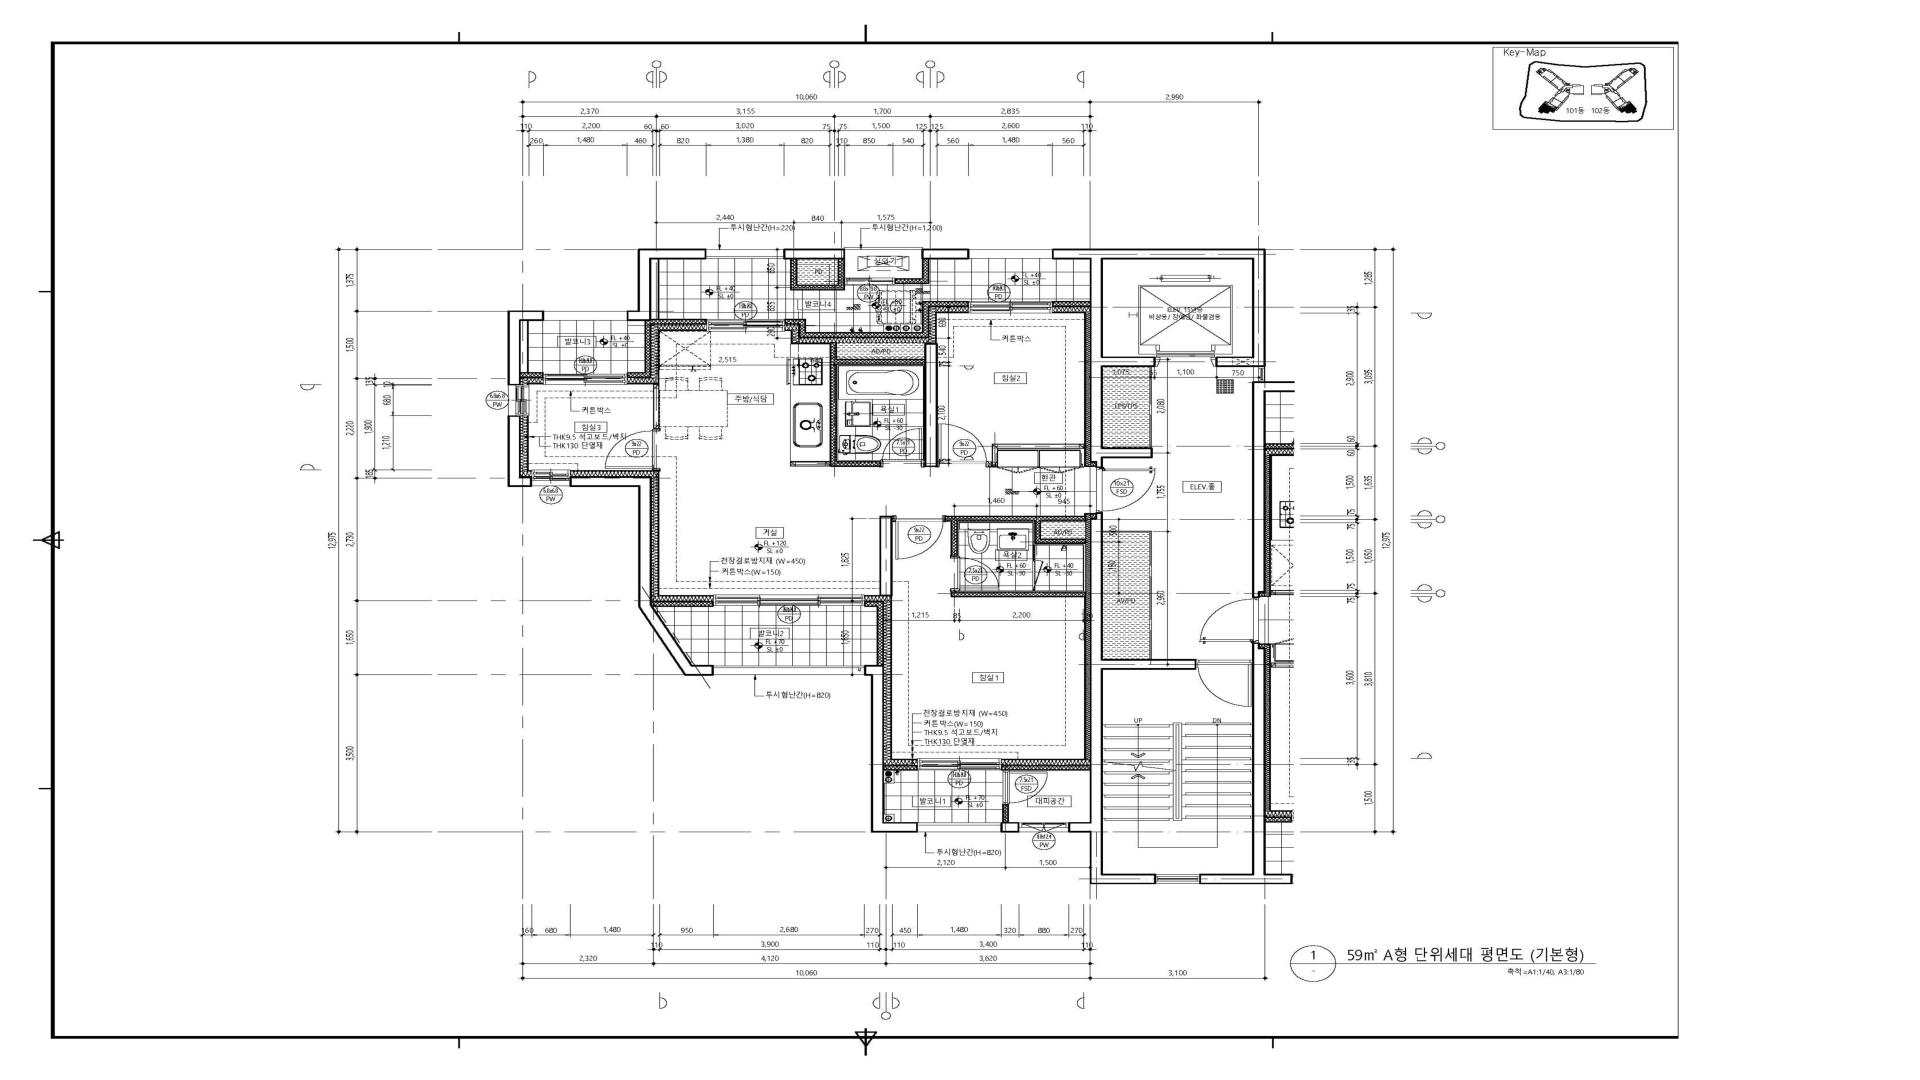door: (1199, 597, 1259, 644), (1196, 659, 1251, 708), (1096, 467, 1155, 512), (895, 518, 943, 560), (939, 423, 988, 463), (604, 430, 653, 468), (955, 556, 1000, 591), (1002, 771, 1047, 803), (882, 429, 922, 462), (845, 278, 894, 285), (1033, 559, 1043, 588)
wall: (1199, 642, 1292, 885), (1052, 248, 1251, 357), (570, 476, 653, 607), (1251, 381, 1295, 597), (864, 665, 918, 833), (1091, 357, 1155, 467), (1216, 248, 1266, 367), (626, 248, 707, 320), (638, 607, 713, 676), (1089, 832, 1156, 884), (508, 310, 545, 385), (1084, 313, 1097, 467), (1089, 669, 1102, 823), (923, 343, 938, 467), (1091, 512, 1102, 659), (508, 415, 531, 487), (626, 320, 651, 377), (864, 601, 884, 665), (880, 516, 893, 596), (1091, 659, 1196, 669), (829, 343, 837, 462), (894, 260, 930, 284), (783, 248, 845, 260), (951, 592, 1085, 597), (799, 332, 922, 338), (920, 248, 969, 260), (997, 443, 1085, 448), (1002, 765, 1091, 770), (945, 516, 1034, 521), (651, 377, 659, 430), (1068, 822, 1104, 832), (651, 601, 713, 607), (1149, 367, 1153, 448), (922, 301, 969, 307), (1085, 513, 1096, 542), (650, 319, 707, 324), (785, 319, 806, 332), (1085, 542, 1091, 592), (831, 462, 881, 467), (1052, 301, 1091, 307), (790, 260, 798, 290), (837, 260, 845, 290), (951, 521, 957, 556), (790, 462, 831, 467), (798, 285, 837, 290), (844, 247, 923, 249), (922, 307, 928, 338), (1001, 823, 1019, 833), (1036, 516, 1085, 520), (1150, 533, 1151, 659), (992, 443, 998, 467), (1033, 542, 1085, 545), (1102, 530, 1151, 533), (885, 766, 916, 770), (520, 372, 543, 377), (1034, 516, 1036, 542), (1033, 543, 1035, 559), (651, 468, 661, 472), (988, 462, 992, 467)
window: (713, 595, 865, 605), (916, 758, 1002, 770), (713, 669, 865, 675), (543, 373, 626, 385), (707, 319, 785, 331), (969, 302, 1052, 313), (969, 249, 1052, 258), (545, 311, 626, 320), (705, 249, 783, 258), (918, 825, 1001, 833), (1019, 823, 1068, 833), (1156, 873, 1199, 885), (531, 469, 570, 480), (516, 385, 529, 415), (1258, 367, 1266, 381)
